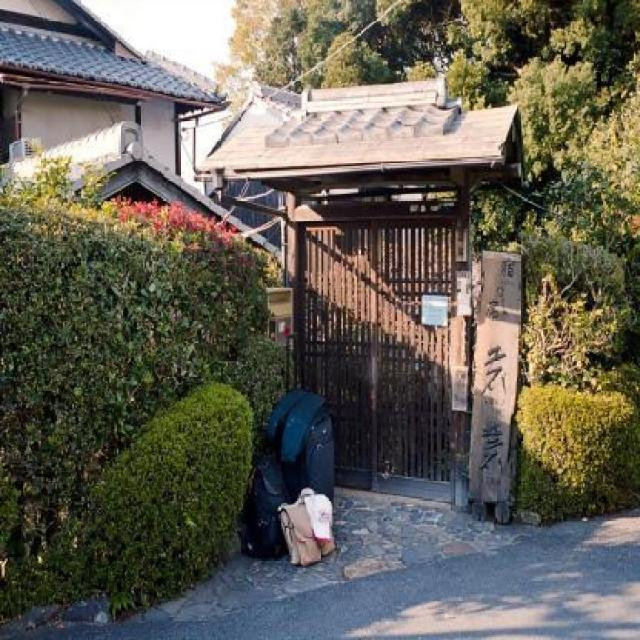backpack: (277, 490, 340, 568), (243, 450, 288, 556)
